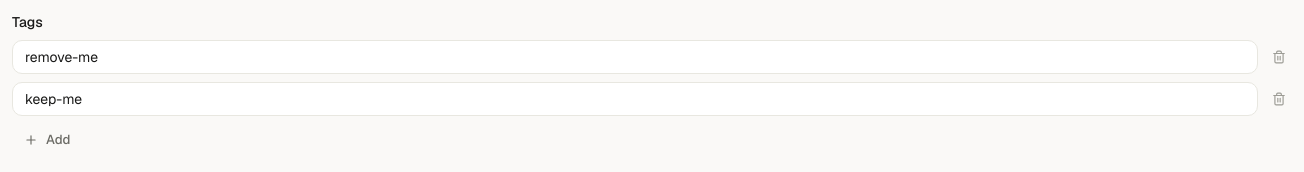
Test case: DynamicList › removes an item when trash button is clicked
expect the number of fields is 2: met, box top-left (12, 40), bottom-right (1258, 74); top-left (12, 82), bottom-right (1258, 116)
# Click the first trash button
Click the 1st button: (1279, 57) top-left (1266, 44), bottom-right (1292, 70)
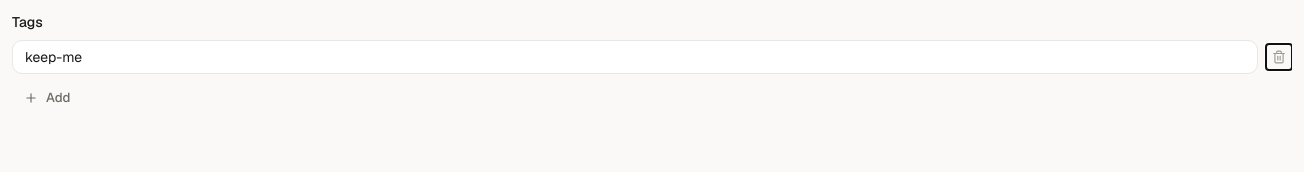
expect the field showing "remove-me" is not shown: met
expect the number of fields is 1: met, box top-left (12, 40), bottom-right (1258, 74)
